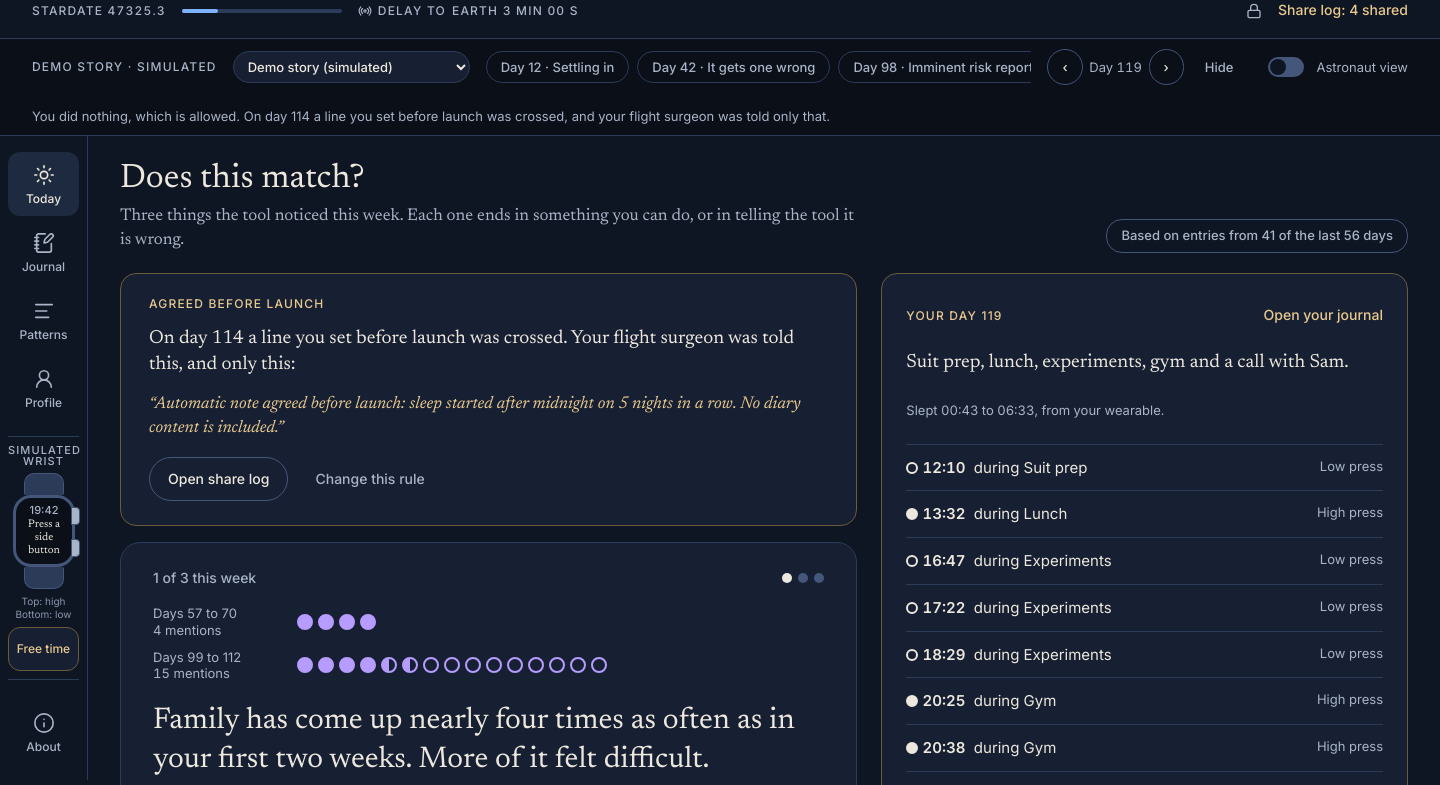
Scenario: a confirmed negotiable alert is one short row with a cue; older ones fold away
The image size is (1440, 785).
Click the switch named "Flight surgeon view" at (1286, 67), box [1268, 57, 1304, 77]
(page scrolled)
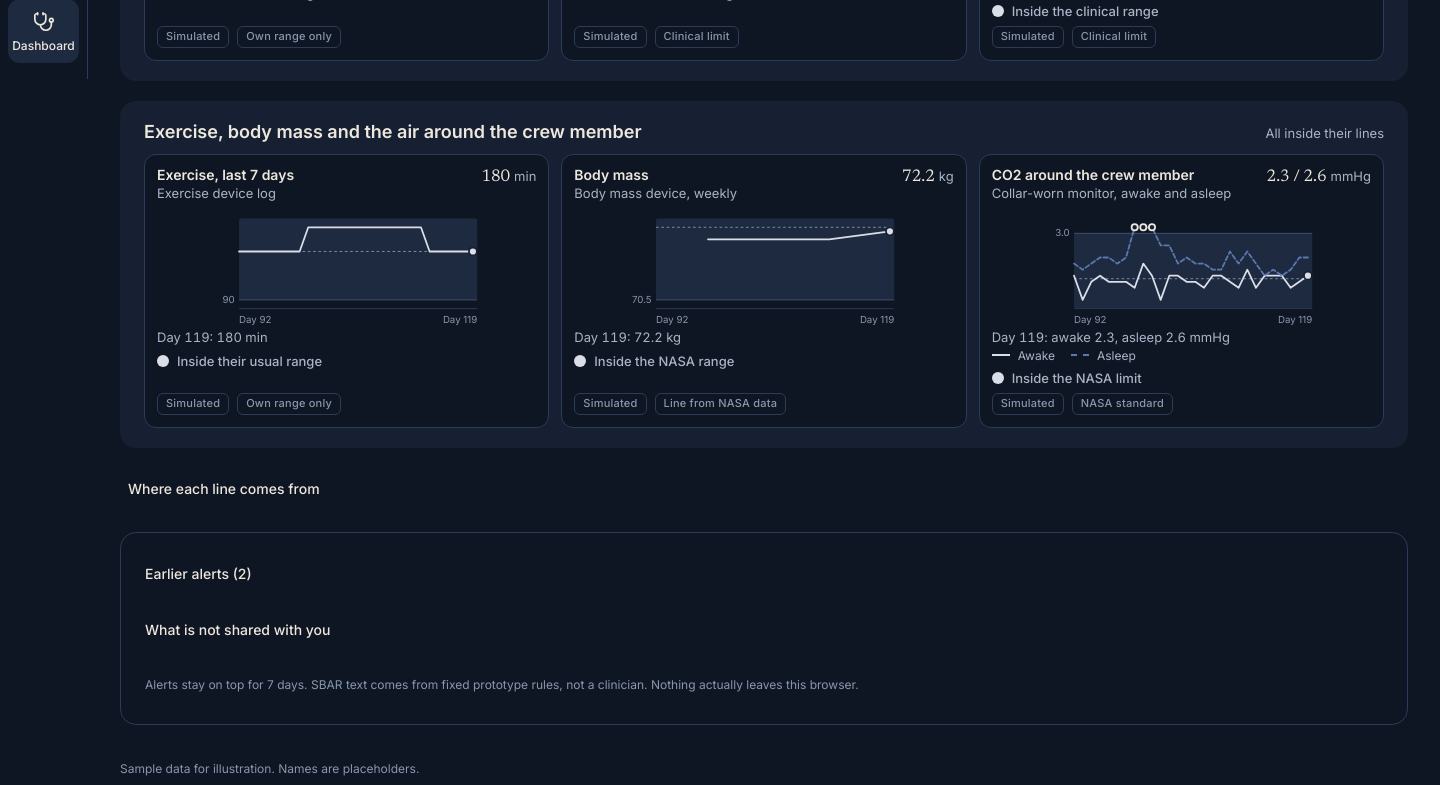
Now the text "Automatic note agreed before launch" is gone
Now the heading "Earlier alerts (2)" is shown, box [145, 565, 252, 582]
